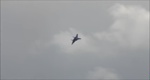maybay_muctieu: (69, 34, 81, 46)
